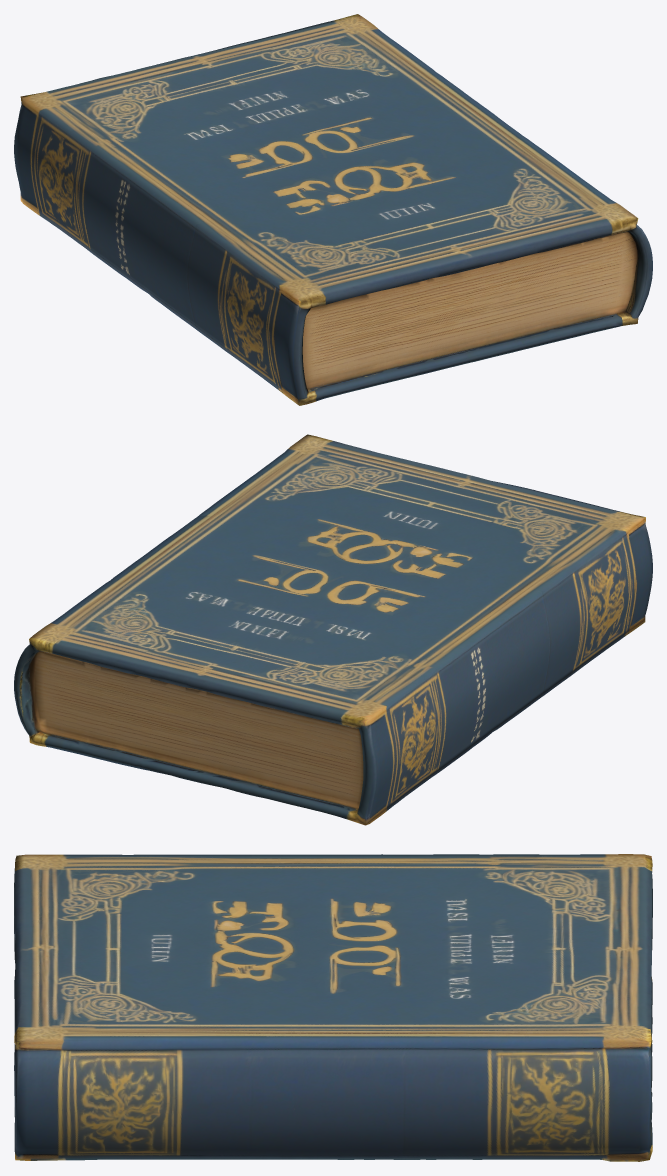
File: book4.obj
3 renders of one model, top to bottom at view 1: azimuth 30°, elevation 25°; view 2: azimuth 150°, elevation 25°; view 3: azimuth 270°, elevation 25°, orthographic. The views are drawn at different scales.
Parts seen in each view (by area): view 1: book; view 2: book; view 3: book.
Boxes of the visible parts, bbox=[...] form: book: bbox=[14, 14, 652, 405]; book: bbox=[14, 434, 652, 825]; book: bbox=[14, 854, 652, 1161].
Size of the model in its own units: 1.49 by 0.4189 by 2.
